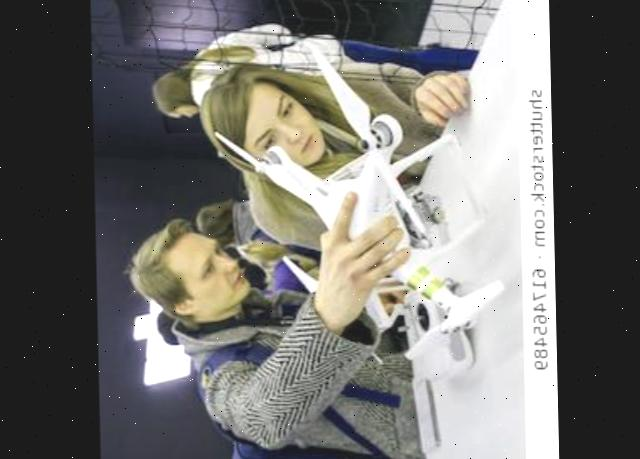drone: (218, 36, 480, 373)
